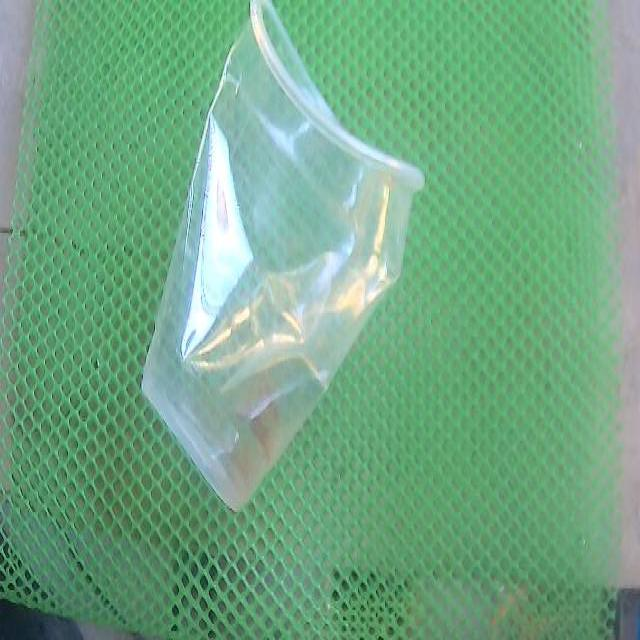bottle: (142, 0, 424, 510)
